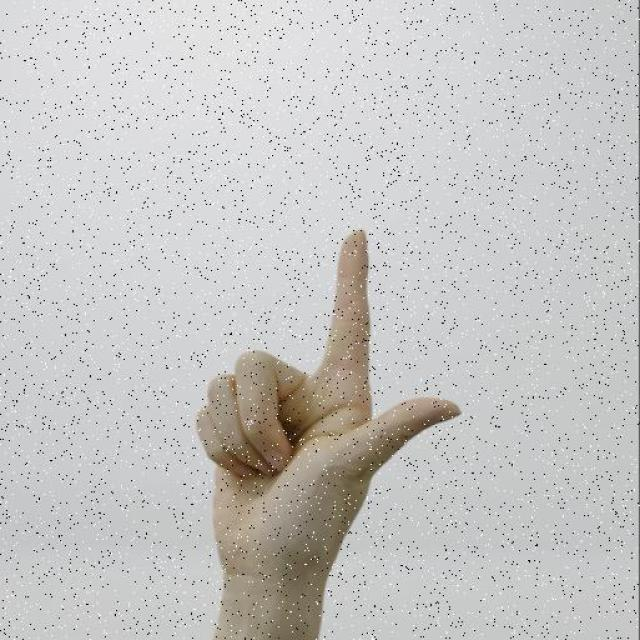L: (192, 227, 464, 597)
